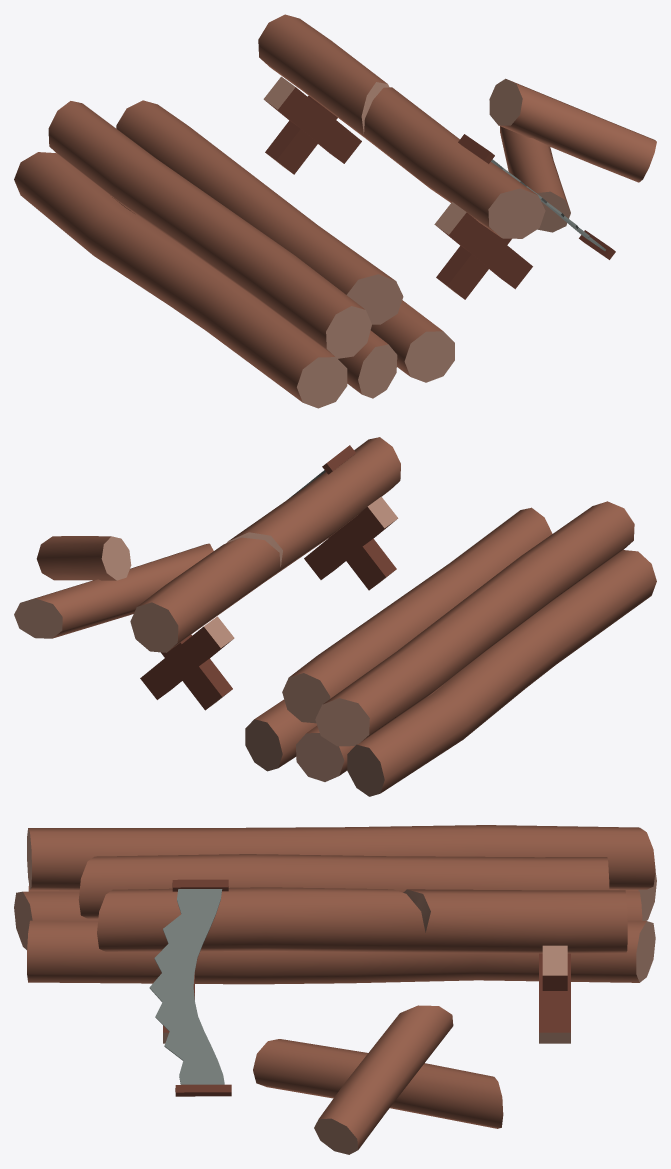
File: environment-sawmill.glb
3 renders of one model, top to bottom at view 1: azimuth 30°, elevation 25°; view 2: azimuth 150°, elevation 25°; view 3: azimuth 270°, elevation 25°, orthographic. The views are drawn at different scales.
Visible parts, largest first — view 1: Environment_Sawmill; view 2: Environment_Sawmill; view 3: Environment_Sawmill.
Boxes of the visible parts, left/top/right/bottom form: Environment_Sawmill: left=14, top=14, right=656, bottom=408; Environment_Sawmill: left=14, top=437, right=656, bottom=796; Environment_Sawmill: left=14, top=825, right=656, bottom=1154.
Bounding box in the file's own units: 2.07 × 0.5934 × 2.06.
1 material, 1 textured.
